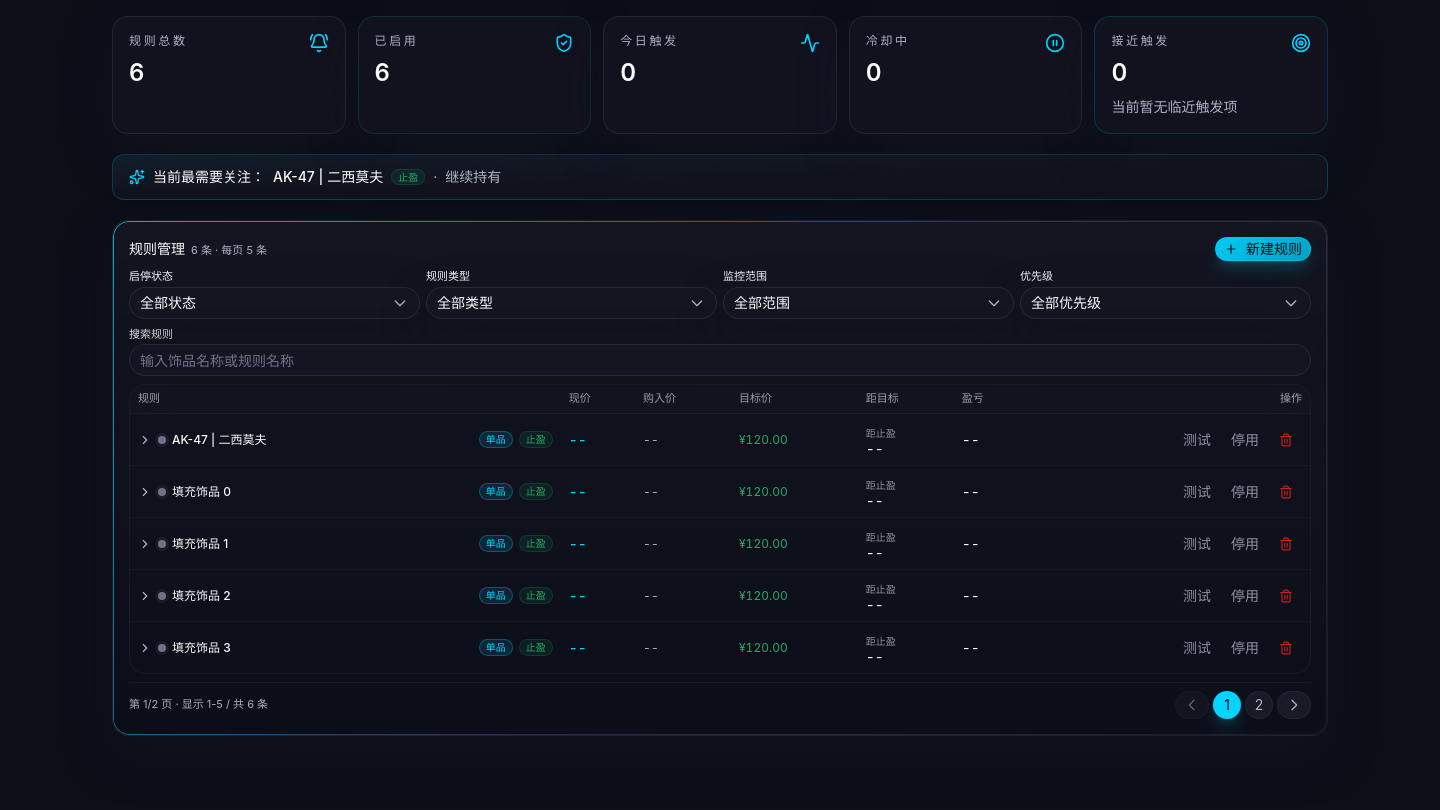
Test: AlertsPage › clamps rules pagination when a mutation leaves the current page empty
The width and height of the screenshot is (1440, 810).
Expected: the text "AK-47 | 二西莫夫" below "现价" is shown, [172,432,266,447]
Click the button "2" at (1259, 705), box [1245,691,1273,719]
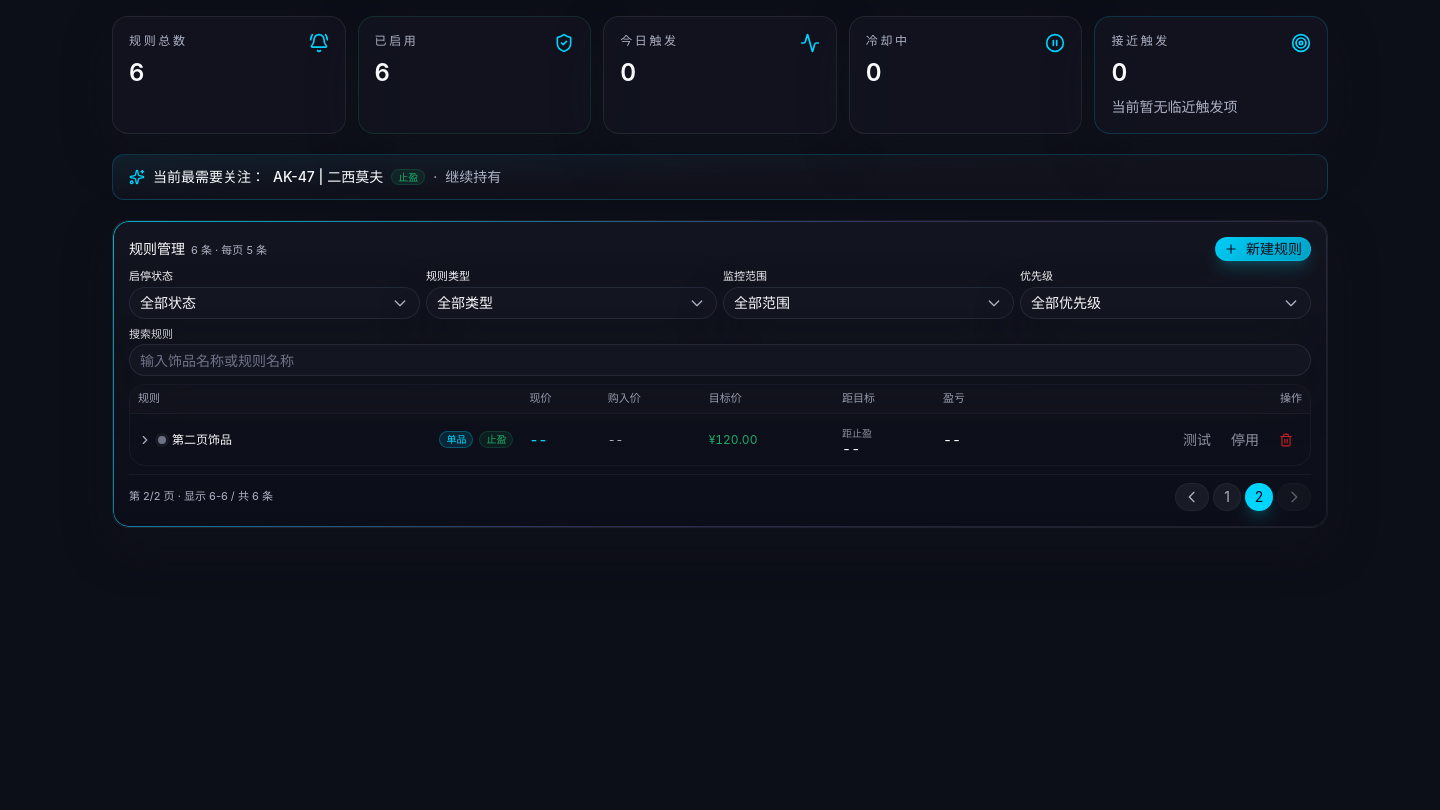
Expected: the text "第二页饰品" is shown, [172,432,232,447]
Click the button named "删除 CS 自动止盈 · 第二页饰品 ≥ 120" at (1286, 440), box [1270,428,1302,452]
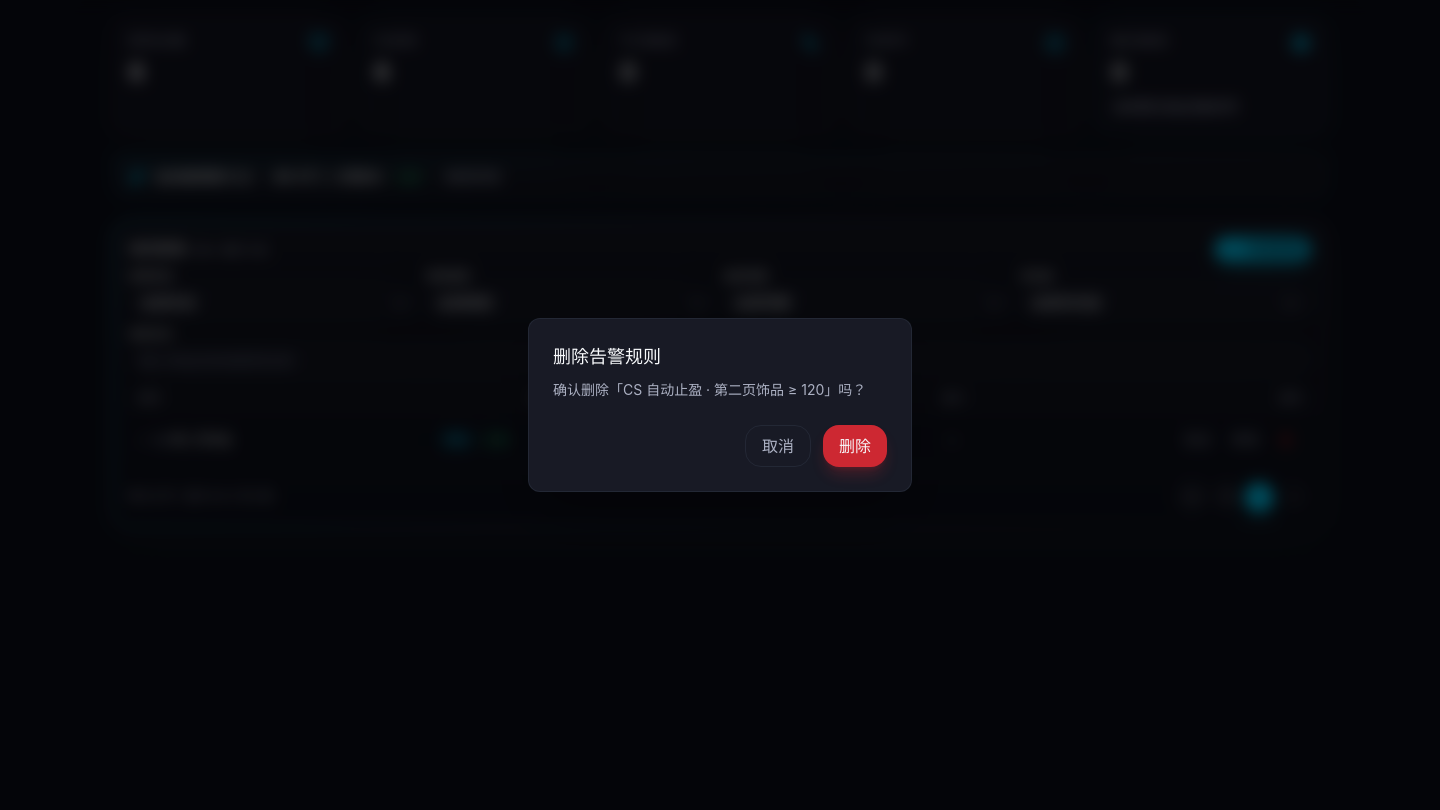
Click the button "删除" at (855, 446), box [823,425,887,467]
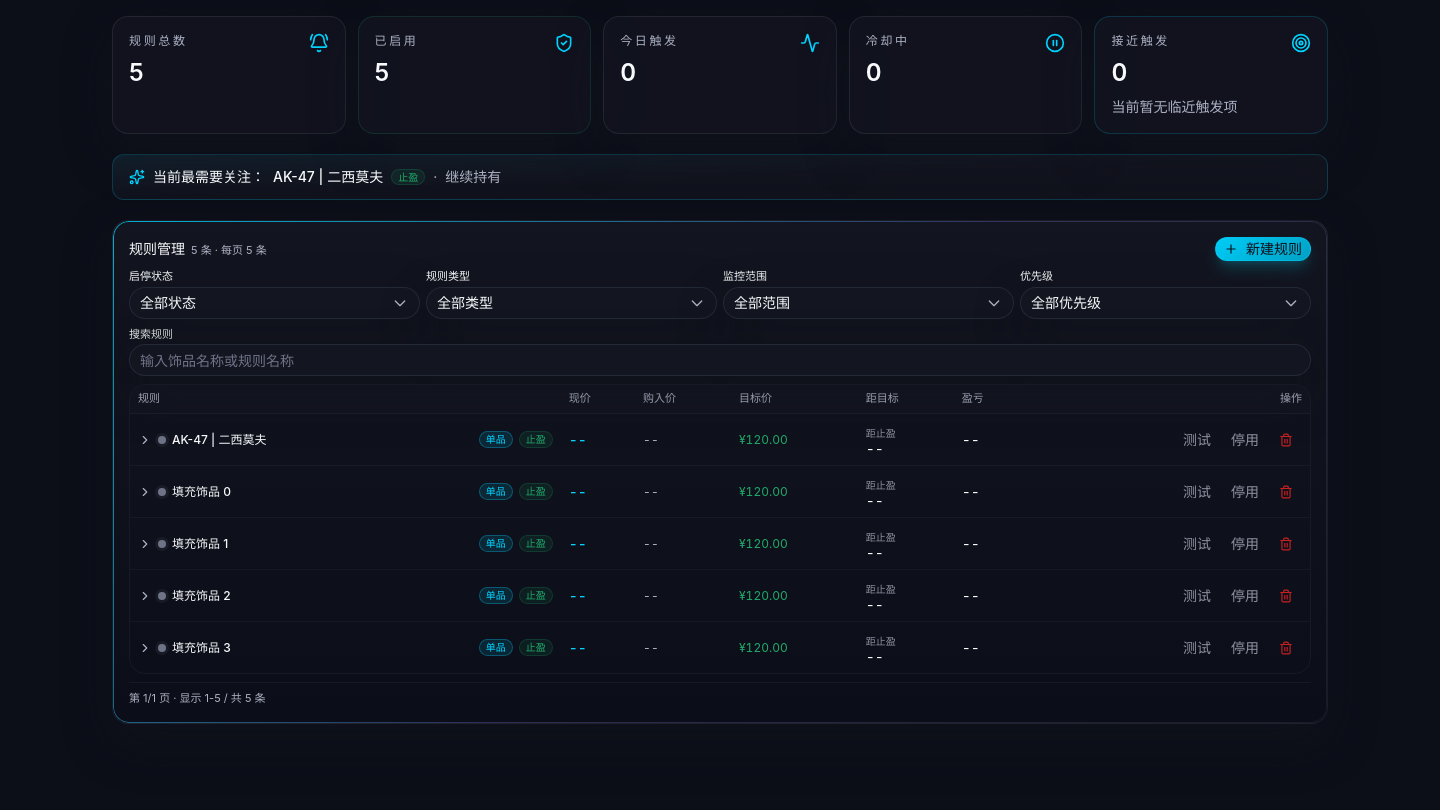
Expected: the text "AK-47 | 二西莫夫" below "现价" is shown, [172,432,266,447]
